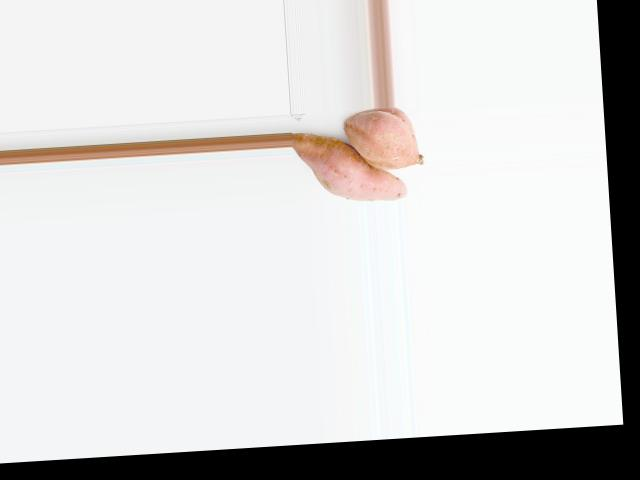sweet_potato: (347, 113, 425, 166)
